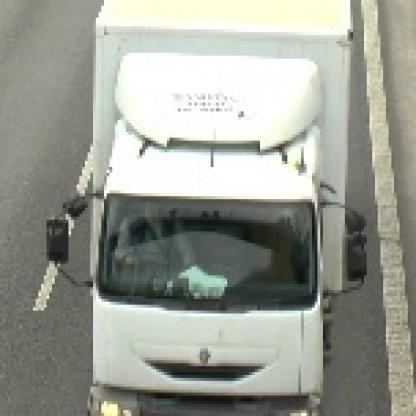truck: (83, 1, 351, 411)
